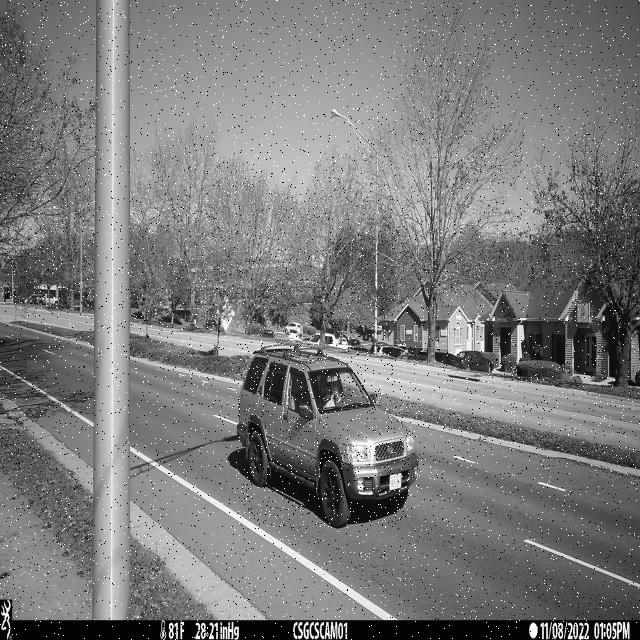SUV: (237, 343, 420, 529)
